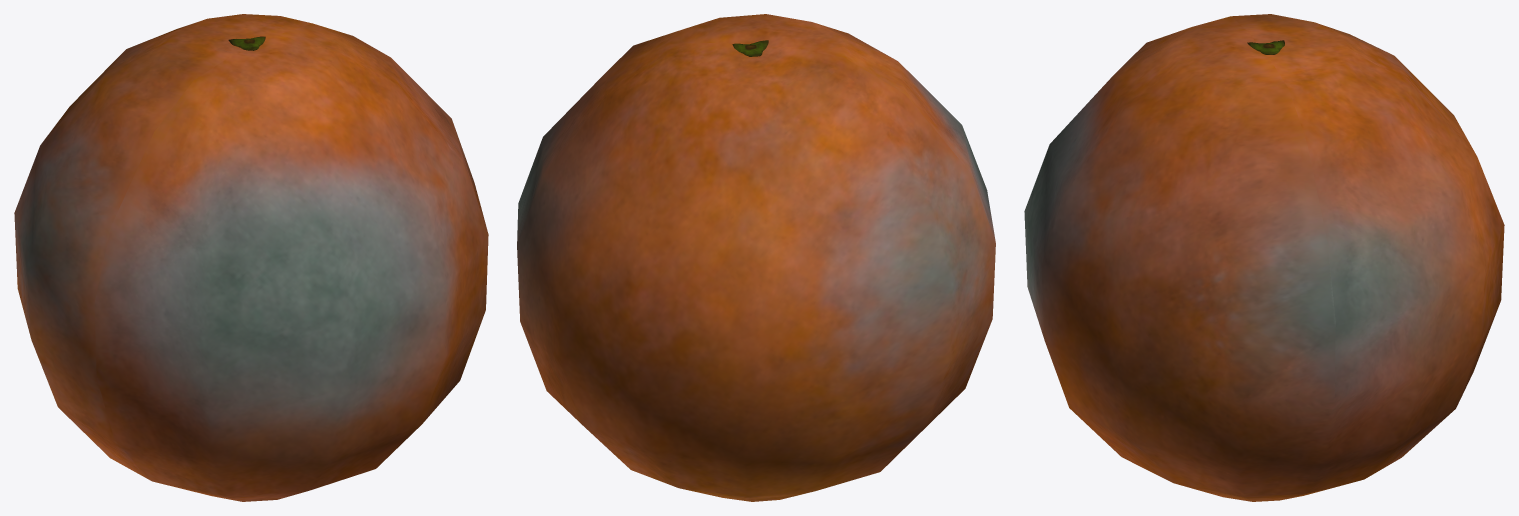
File: SM_Orange.fbx
3 renders of one model, left to right at view 1: azimuth 30°, elevation 25°; view 2: azimuth 150°, elevation 25°; view 3: azimuth 270°, elevation 25°, orthographic.
Visible parts, largest first — view 1: SM_Orange; view 2: SM_Orange; view 3: SM_Orange.
Boxes of the visible parts, box(x1,y1,x2,y2) form: SM_Orange: box(14, 14, 488, 501); SM_Orange: box(517, 14, 995, 501); SM_Orange: box(1024, 14, 1504, 501).
Size of the model in its own units: 11.47 by 11.29 by 11.38.
1 material, 1 textured.
